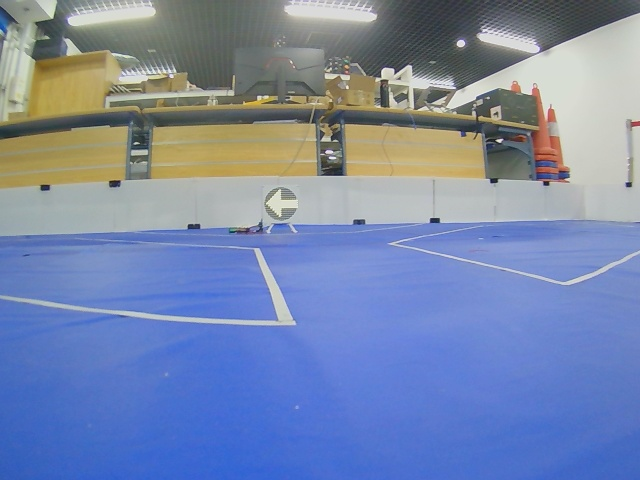left_yellow: (265, 187, 299, 220)
